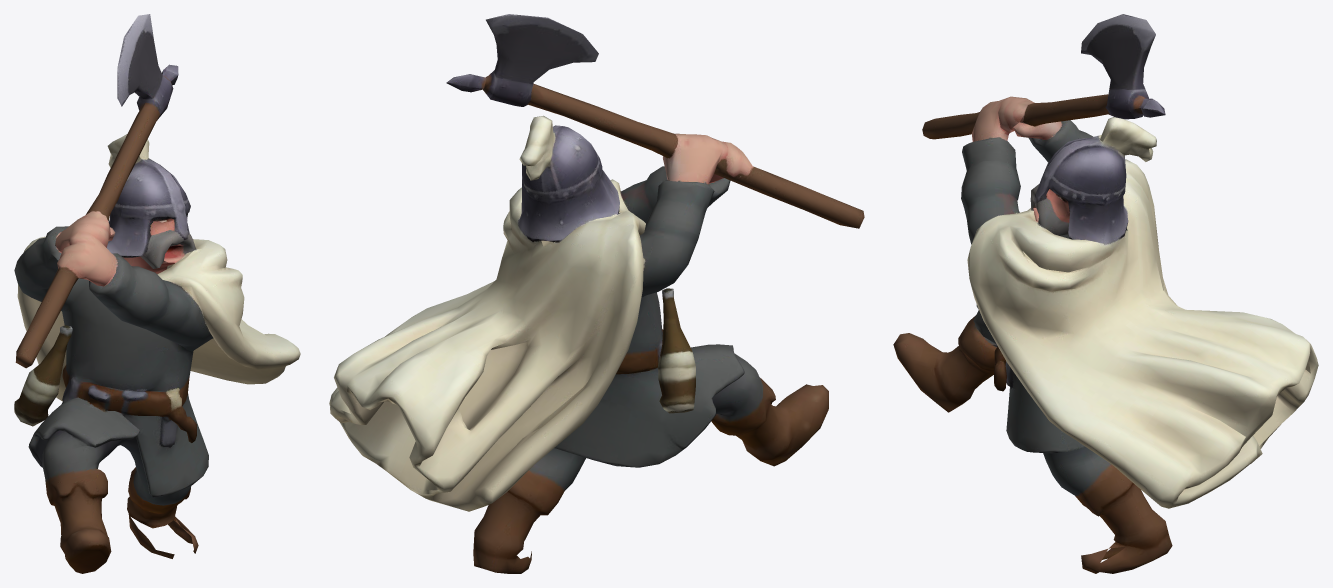
File: hold_captain_strike.glb
3 renders of one model, left to right at view 1: azimuth 30°, elevation 25°; view 2: azimuth 150°, elevation 25°; view 3: azimuth 270°, elevation 25°, orthographic. The views are drawn at different scales.
Visible parts, largest first — view 1: world; view 2: world; view 3: world.
Part boxes in pixels (x1=…): world: x1=14, y1=14, x2=300, y2=573; world: x1=329, y1=14, x2=864, y2=573; world: x1=893, y1=14, x2=1318, y2=573.
Size of the model in its own units: 0.7524 by 0.9984 by 0.7139.
Materials: 1 (1 with a texture image).
